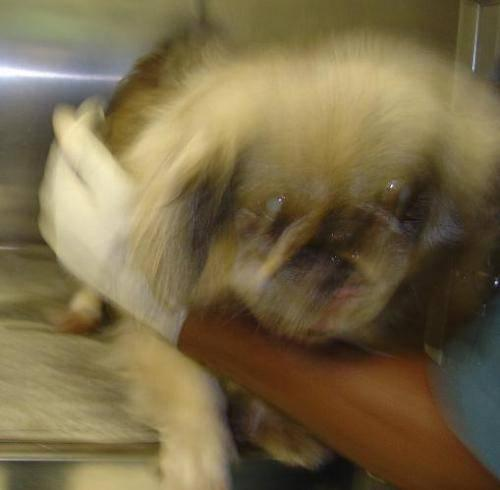dog: (40, 21, 499, 489)
